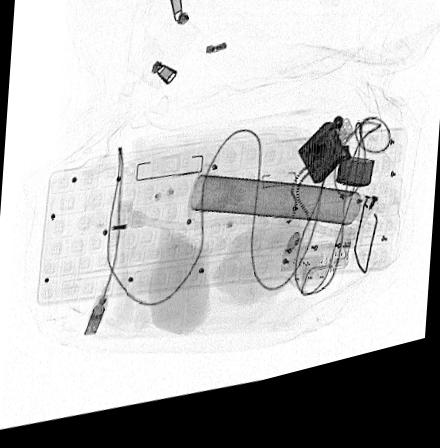Lighter: (297, 132, 374, 207)
